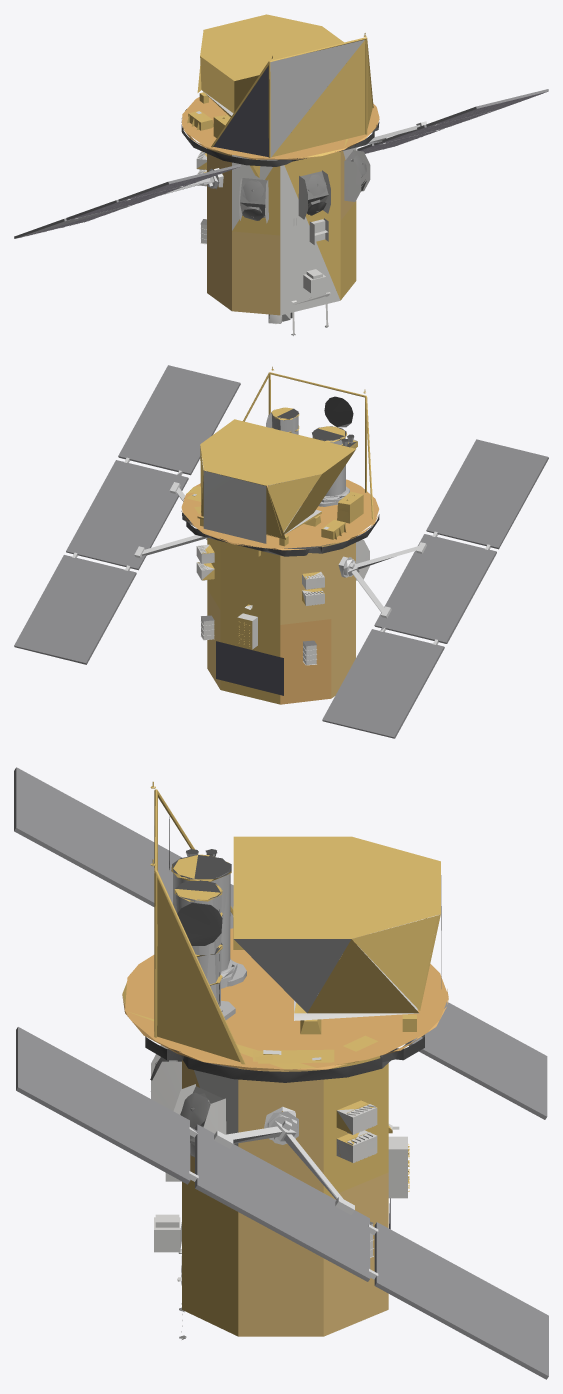
Rendered from swift.glb.
The picture shows the model from 3 angles, top to bottom: view 1: azimuth 30°, elevation 25°; view 2: azimuth 150°, elevation 25°; view 3: azimuth 270°, elevation 25°; orthographic projection. The views are drawn at different scales.
Visible parts, largest first — view 1: foil, body, solar-panel; view 2: solar-panel, foil, body; view 3: foil, solar-panel, body.
Part boxes in pixels (x1,y1,x2,y2): foil: [181, 14, 379, 315]; body: [181, 30, 379, 335]; solar-panel: [14, 40, 548, 238]; solar-panel: [14, 365, 548, 738]; foil: [181, 366, 379, 704]; body: [181, 396, 379, 665]; foil: [122, 781, 448, 1336]; solar-panel: [14, 767, 548, 1379]; body: [145, 816, 441, 1339].
Size of the model in its own units: 39.92 by 29.44 by 28.26.
